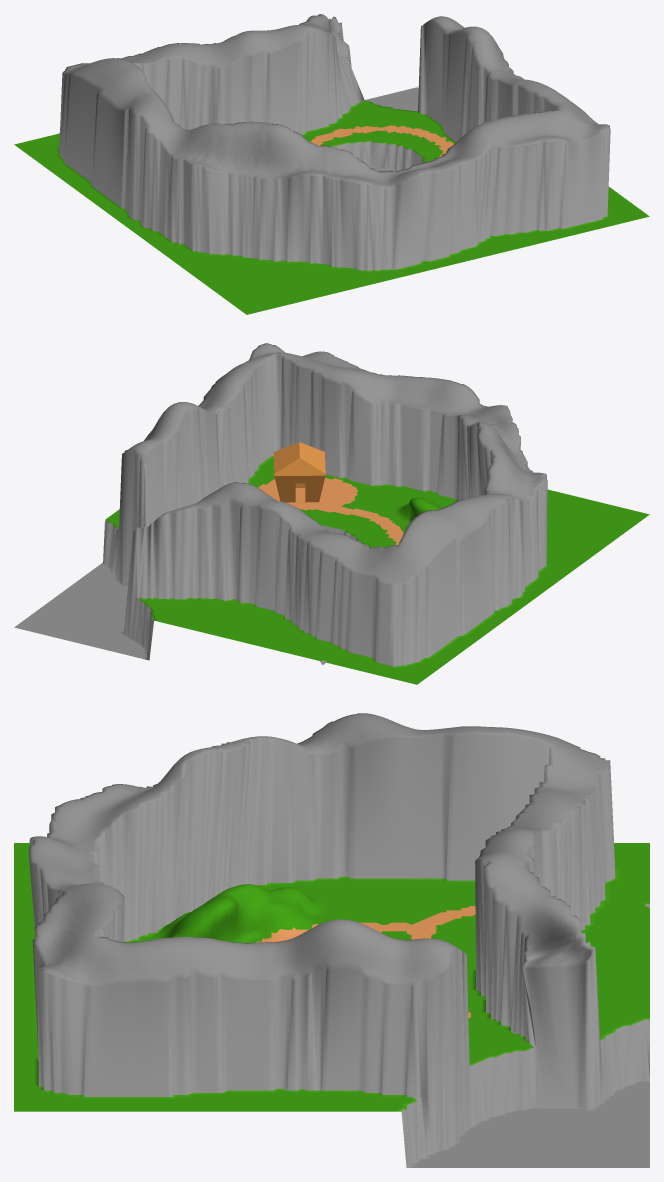
File: terraincolors.glb
3 renders of one model, top to bottom at view 1: azimuth 30°, elevation 25°; view 2: azimuth 150°, elevation 25°; view 3: azimuth 270°, elevation 25°, orthographic. The views are drawn at different scales.
Parts seen in each view (by area): view 1: Plane; view 2: Plane, Cube; view 3: Plane.
Part boxes in pixels (x1,y1,x2,y2): Plane: (14, 14, 649, 314); Plane: (14, 343, 649, 684); Cube: (273, 442, 325, 502); Plane: (14, 713, 649, 1167).
Bounding box in the file's own units: 60 × 22.21 × 60.
